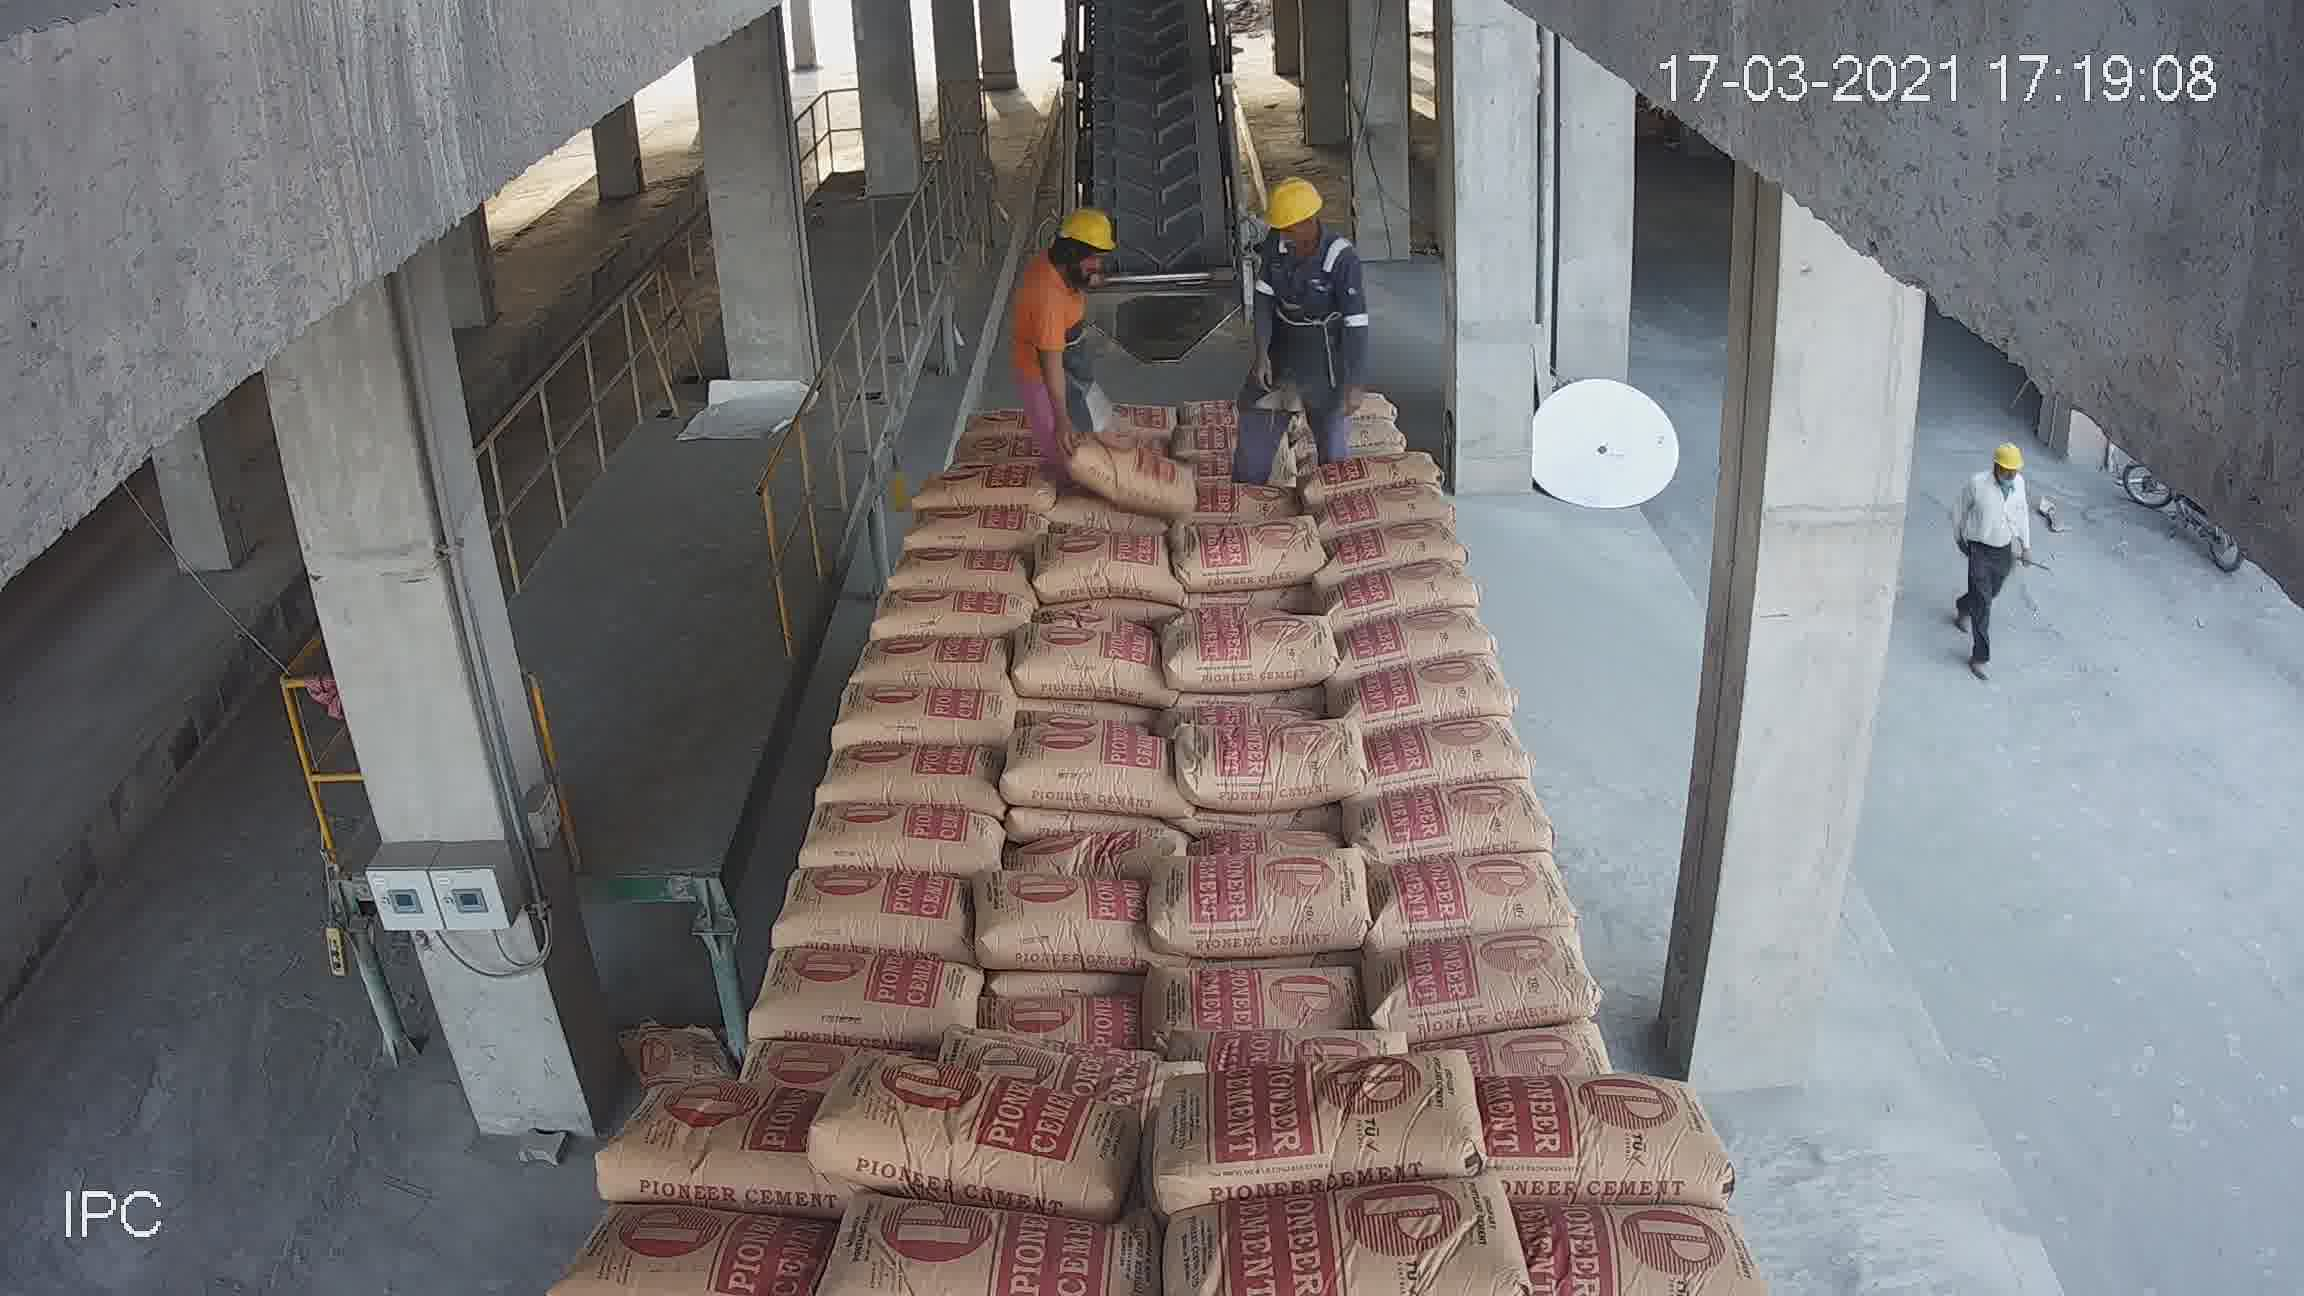bag_h: (1150, 1032, 1461, 1207), (804, 1060, 1139, 1217), (1173, 1176, 1532, 1294), (1503, 1060, 1715, 1212), (1383, 926, 1589, 1055), (597, 1090, 821, 1203), (736, 942, 991, 1040), (1152, 836, 1372, 943), (820, 1225, 1161, 1293), (555, 1204, 836, 1285), (1532, 1203, 1760, 1296), (772, 869, 980, 964), (1179, 709, 1370, 810), (975, 873, 1166, 968), (1367, 698, 1533, 804), (1383, 853, 1571, 945), (1163, 953, 1367, 1036), (1003, 720, 1180, 804), (802, 802, 1002, 873), (1003, 801, 1179, 881), (1165, 606, 1347, 684), (946, 1048, 1211, 1100), (831, 628, 1024, 696), (1370, 794, 1554, 866), (810, 744, 1002, 812), (1423, 1019, 1627, 1082), (832, 677, 1014, 747), (1347, 658, 1524, 729), (1014, 612, 1157, 695), (1025, 524, 1176, 601), (1329, 554, 1473, 635), (1328, 606, 1502, 669), (986, 976, 1124, 1055), (1166, 517, 1313, 582), (870, 585, 1036, 642), (1190, 1022, 1400, 1067), (1070, 438, 1211, 503), (889, 541, 1036, 600), (897, 503, 1048, 559), (1309, 446, 1449, 502), (1324, 524, 1461, 576), (1315, 483, 1448, 535), (919, 464, 1060, 511), (1054, 479, 1174, 525), (945, 440, 1029, 475), (962, 423, 1032, 460), (1163, 399, 1245, 430), (968, 407, 1029, 437)
belt: (1055, 9, 1253, 312)
